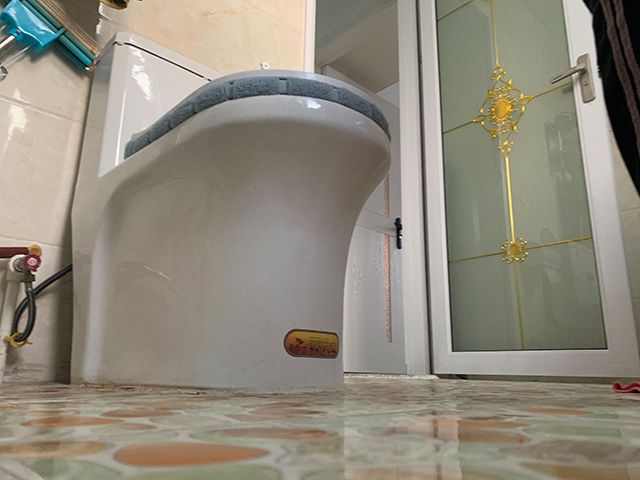closestool: (67, 28, 393, 397)
